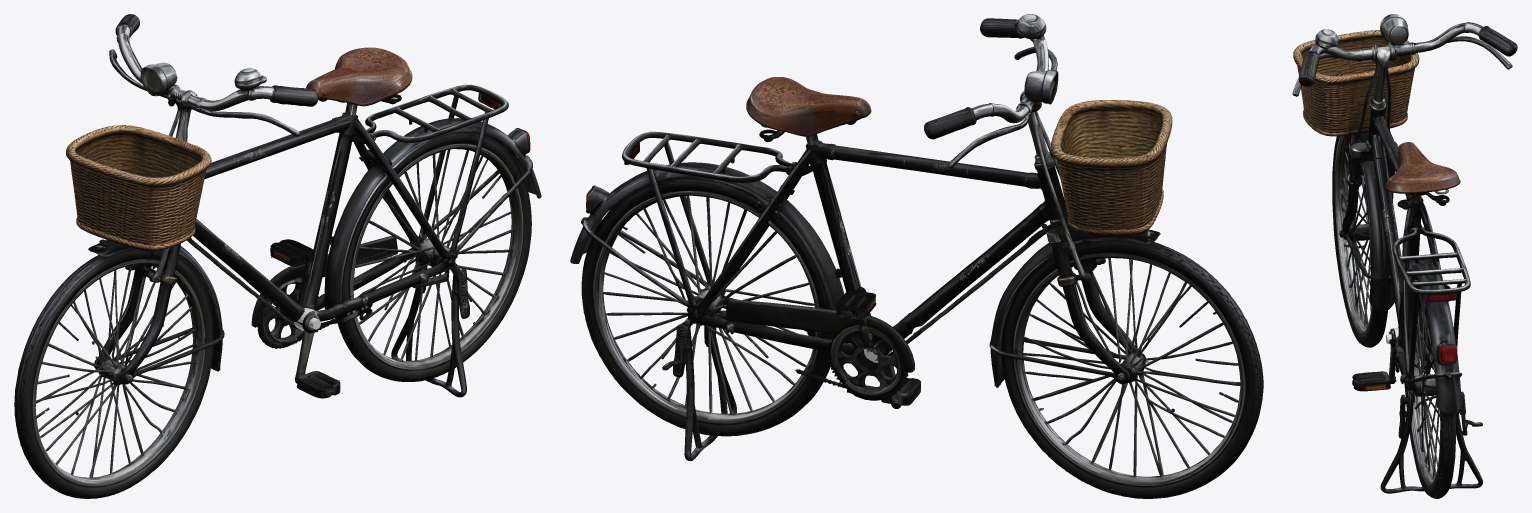
File: bicycle.glb
The picture shows the model from 3 angles, left to right: view 1: azimuth 30°, elevation 25°; view 2: azimuth 150°, elevation 25°; view 3: azimuth 270°, elevation 25°; orthographic projection. The views are drawn at different scales.
Parts seen in each view (by area): view 1: tripo_part_0, tripo_part_1, tripo_part_2, tripo_part_30, tripo_part_21, tripo_part_5, tripo_part_7, tripo_part_8, tripo_part_11, tripo_part_12, pedalL, pedalR (+1 smaller); view 2: tripo_part_0, tripo_part_1, tripo_part_2, tripo_part_30, tripo_part_21, tripo_part_5, tripo_part_7, tripo_part_8, tripo_part_11, tripo_part_25, tripo_part_12, pedalR; view 3: tripo_part_30, tripo_part_21, tripo_part_1, tripo_part_2, tripo_part_0, tripo_part_5, tripo_part_8, tripo_part_7, tripo_part_11, tripo_part_12, pedalL, tripo_part_25 (+2 smaller).
Part boxes in pixels (x1,y1,x2,y2): tripo_part_0: (14,248,213,498); tripo_part_1: (187,112,455,348); tripo_part_2: (336,132,531,381); tripo_part_30: (66,125,211,250); tripo_part_21: (324,84,541,309); tripo_part_5: (88,110,224,384); tripo_part_7: (306,47,412,116); tripo_part_8: (109,26,299,140); tripo_part_11: (391,257,469,397); tripo_part_12: (140,62,177,96); pedalL: (296,371,340,398); pedalR: (270,239,313,266); tripo_part_0: (1001,240,1263,498); tripo_part_1: (689,140,1067,400); tripo_part_2: (581,178,831,436); tripo_part_30: (1050,100,1172,235); tripo_part_21: (570,131,848,343); tripo_part_5: (989,112,1160,387); tripo_part_7: (746,77,871,145); tripo_part_8: (948,14,1057,167); tripo_part_11: (662,316,736,460); tripo_part_25: (924,107,983,139); tripo_part_12: (1024,69,1058,104); pedalR: (836,290,876,319); tripo_part_30: (1293,30,1419,136); tripo_part_21: (1392,228,1470,413); tripo_part_1: (1366,96,1442,402); tripo_part_2: (1403,276,1455,498); tripo_part_0: (1332,134,1387,347); tripo_part_5: (1339,66,1397,311); tripo_part_8: (1292,22,1512,101); tripo_part_7: (1384,142,1460,209); tripo_part_11: (1380,390,1482,493); tripo_part_12: (1380,14,1408,46); pedalL: (1352,371,1390,391); tripo_part_25: (1474,25,1517,56).
Size of the model in its own units: 0.9796 by 0.6588 by 0.3746.
21 materials, 21 textured.
